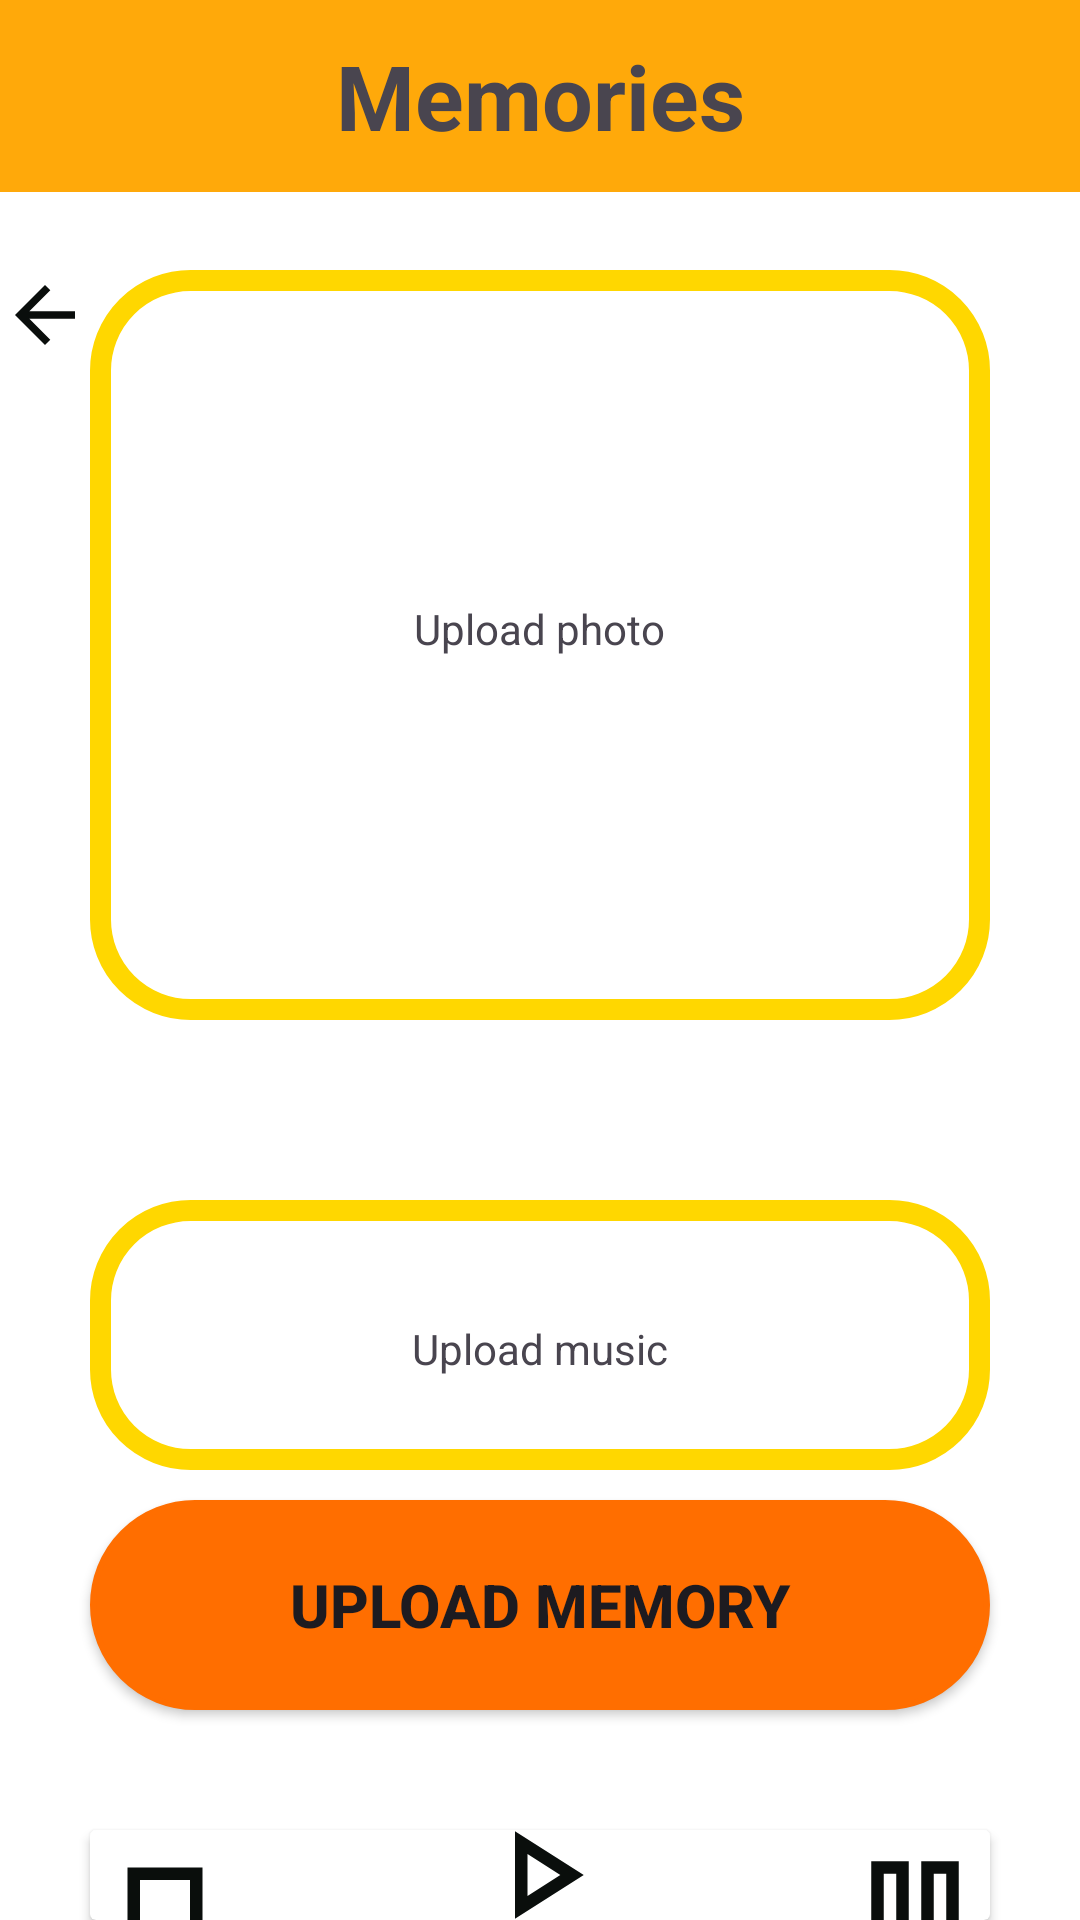

Where icons sit on this 1080px×1920px app screen, as (x1, y1, x2, y2):
arrow back: (15, 285, 75, 345)
